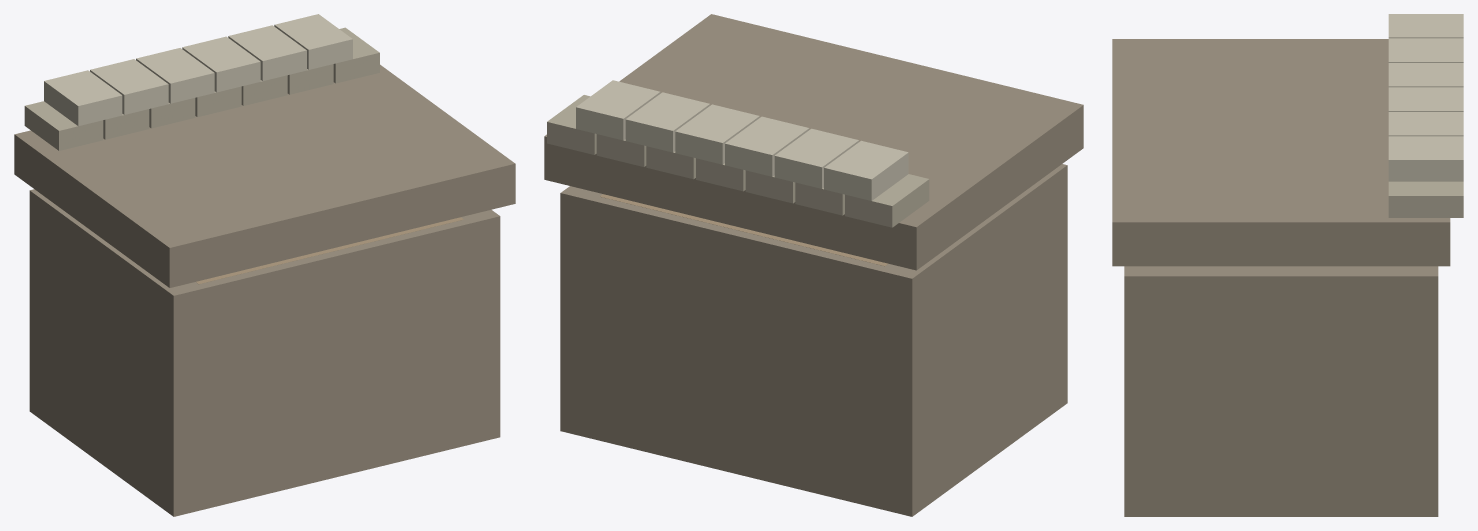
File: trench-line-1917-officer-dugout-entrance-f30c3b22__24066.glb
The picture shows the model from 3 angles, left to right: view 1: azimuth 30°, elevation 25°; view 2: azimuth 150°, elevation 25°; view 3: azimuth 270°, elevation 25°; orthographic projection. The views are drawn at different scales.
Visible parts, largest first — view 1: officer-dugout-entrance; view 2: officer-dugout-entrance; view 3: officer-dugout-entrance.
Part boxes in pixels (<box>): officer-dugout-entrance: <box>14,14,515,516</box>; officer-dugout-entrance: <box>544,14,1083,516</box>; officer-dugout-entrance: <box>1112,14,1463,516</box>.
Size of the model in its own units: 3.6 by 3.14 by 2.91.
